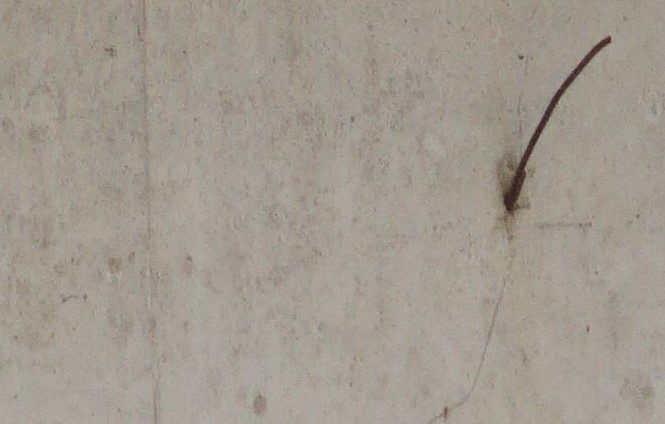Crack: (425, 275, 506, 424)
Exposed reinforcement: (502, 34, 612, 216)
